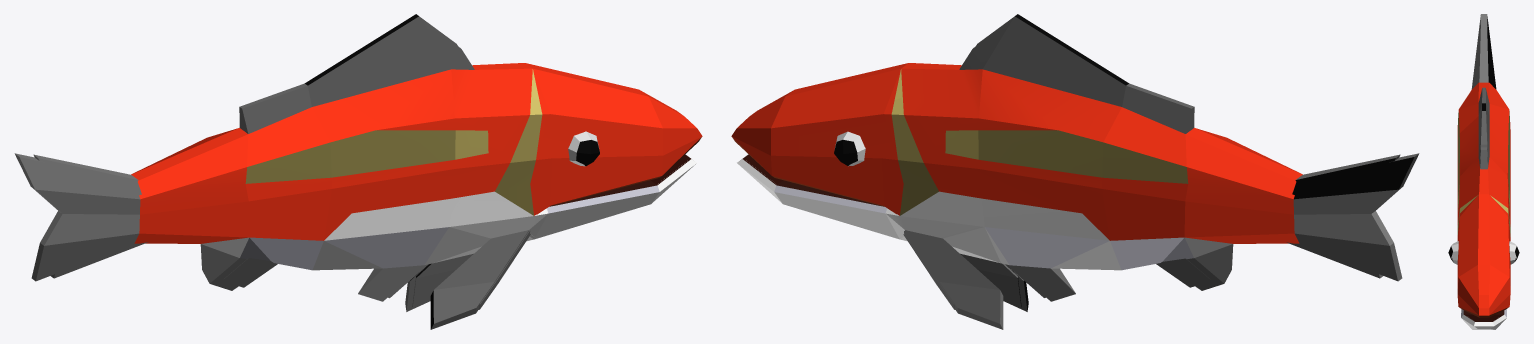
Rendered from Fish2.fbx.
3 renders of one model, left to right at view 1: azimuth 30°, elevation 25°; view 2: azimuth 150°, elevation 25°; view 3: azimuth 270°, elevation 25°, orthographic. The views are drawn at different scales.
Visible parts, largest first — view 1: fish_middle, fish_middle.001; view 2: fish_middle, fish_middle.001; view 3: fish_middle, fish_middle.001.
Part boxes in pixels (x1=…): fish_middle: x1=14, y1=14, x2=702, y2=329; fish_middle.001: x1=33, y1=47, x2=687, y2=309; fish_middle: x1=731, y1=14, x2=1419, y2=329; fish_middle.001: x1=746, y1=47, x2=1400, y2=309; fish_middle: x1=1448, y1=14, x2=1519, y2=329; fish_middle.001: x1=1452, y1=23, x2=1515, y2=321.
Bounding box in the file's own units: 1529 × 656 × 219.
